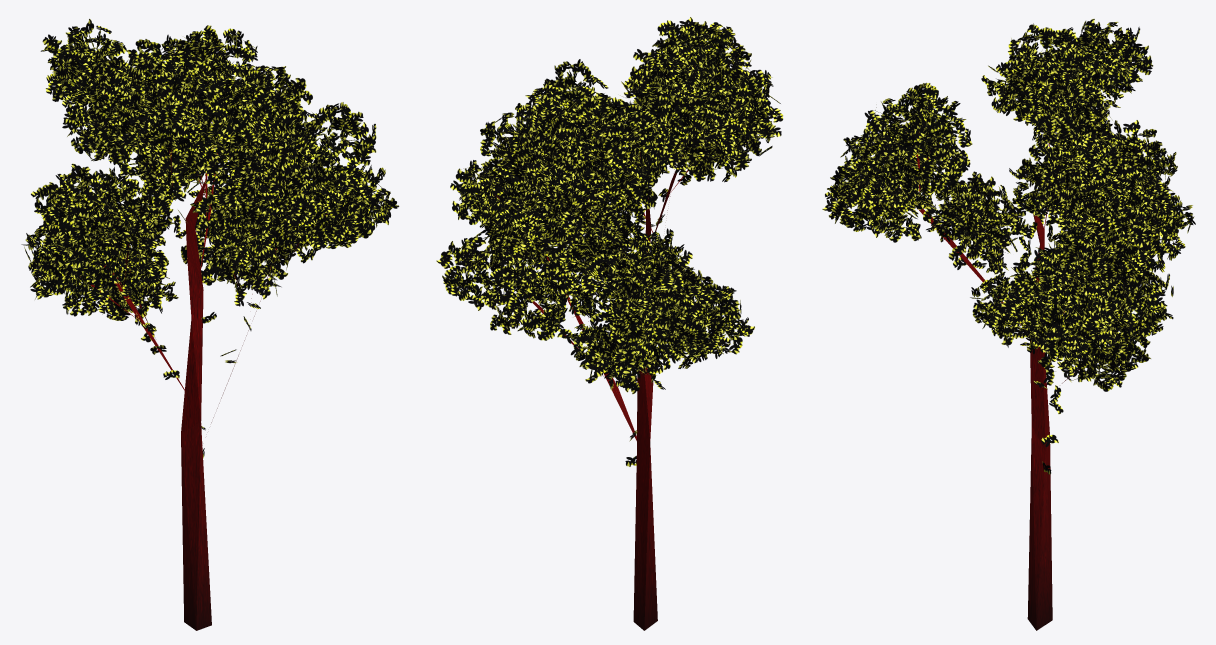
Rendered from cottonwood_river_v02_LOD1.glb.
3 renders of one model, left to right at view 1: azimuth 30°, elevation 25°; view 2: azimuth 150°, elevation 25°; view 3: azimuth 270°, elevation 25°, orthographic. The views are drawn at different scales.
Parts seen in each view (by area): view 1: cottonwood_river_v02_LOD1; view 2: cottonwood_river_v02_LOD1; view 3: cottonwood_river_v02_LOD1.
Part boxes in pixels (box(x1,y1,x2,y2)): cottonwood_river_v02_LOD1: box(21, 19, 399, 630); cottonwood_river_v02_LOD1: box(436, 17, 783, 630); cottonwood_river_v02_LOD1: box(822, 18, 1195, 630).
Bounding box in the file's own units: 19.93 × 34.05 × 20.66.
Materials: 2 (2 with a texture image).
